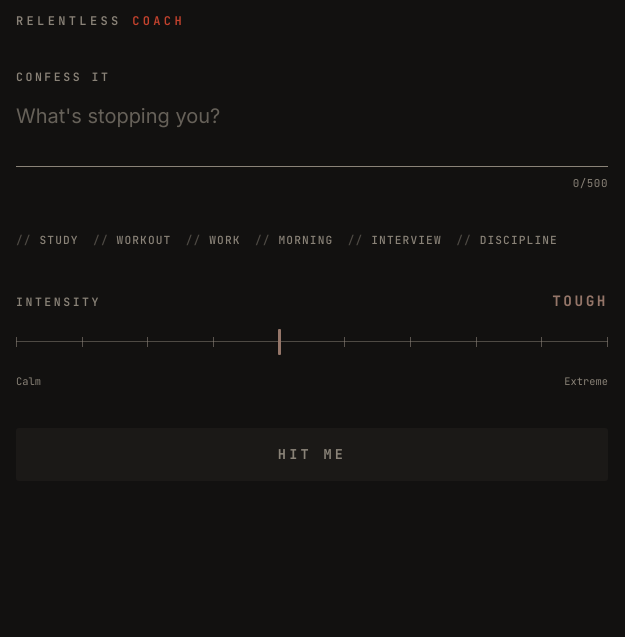
Test case: Home page › shows an inline error with retry when /api/script fails
The image size is (625, 637).
Type "test" into the text box with placeholder "What's stopping you?".
click(312, 130); type("test")  # box [16,94,608,167]
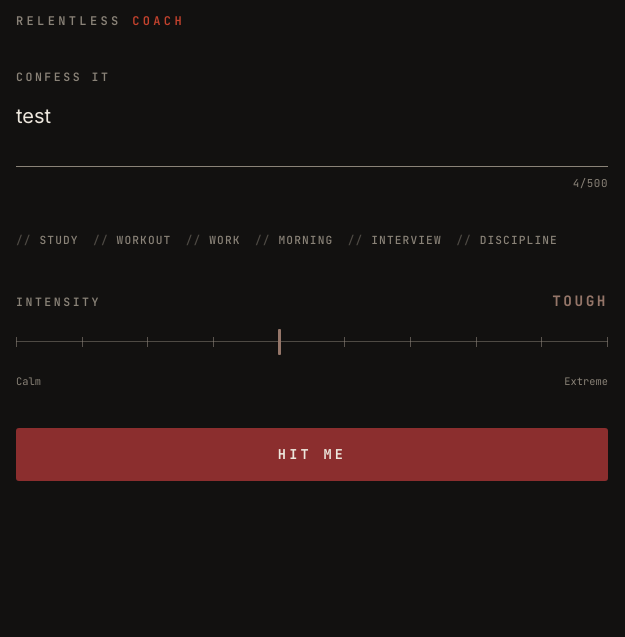
Click the button "Hit Me".
click(312, 454)  # box [16,428,608,481]
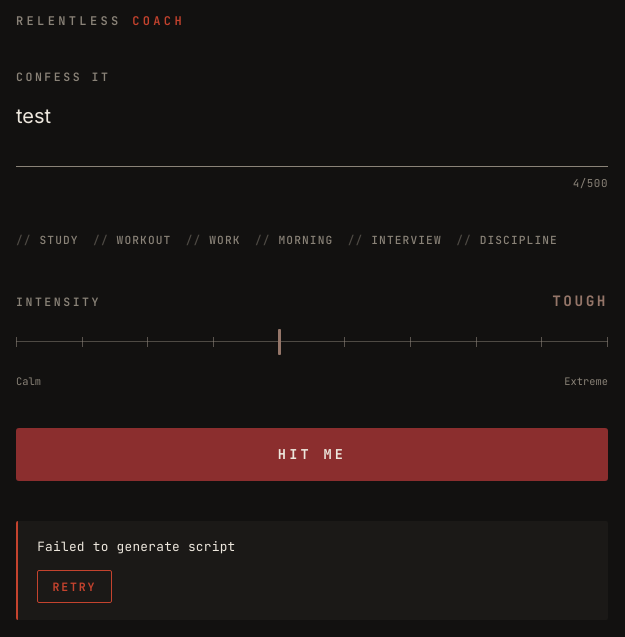
Now the text "Failed to generate script" is shown, box [37,538,236,555]
Now the button "Retry" is shown, box [37,570,112,603]
